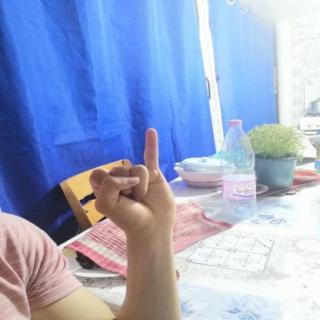MEEM: (75, 123, 184, 237)
